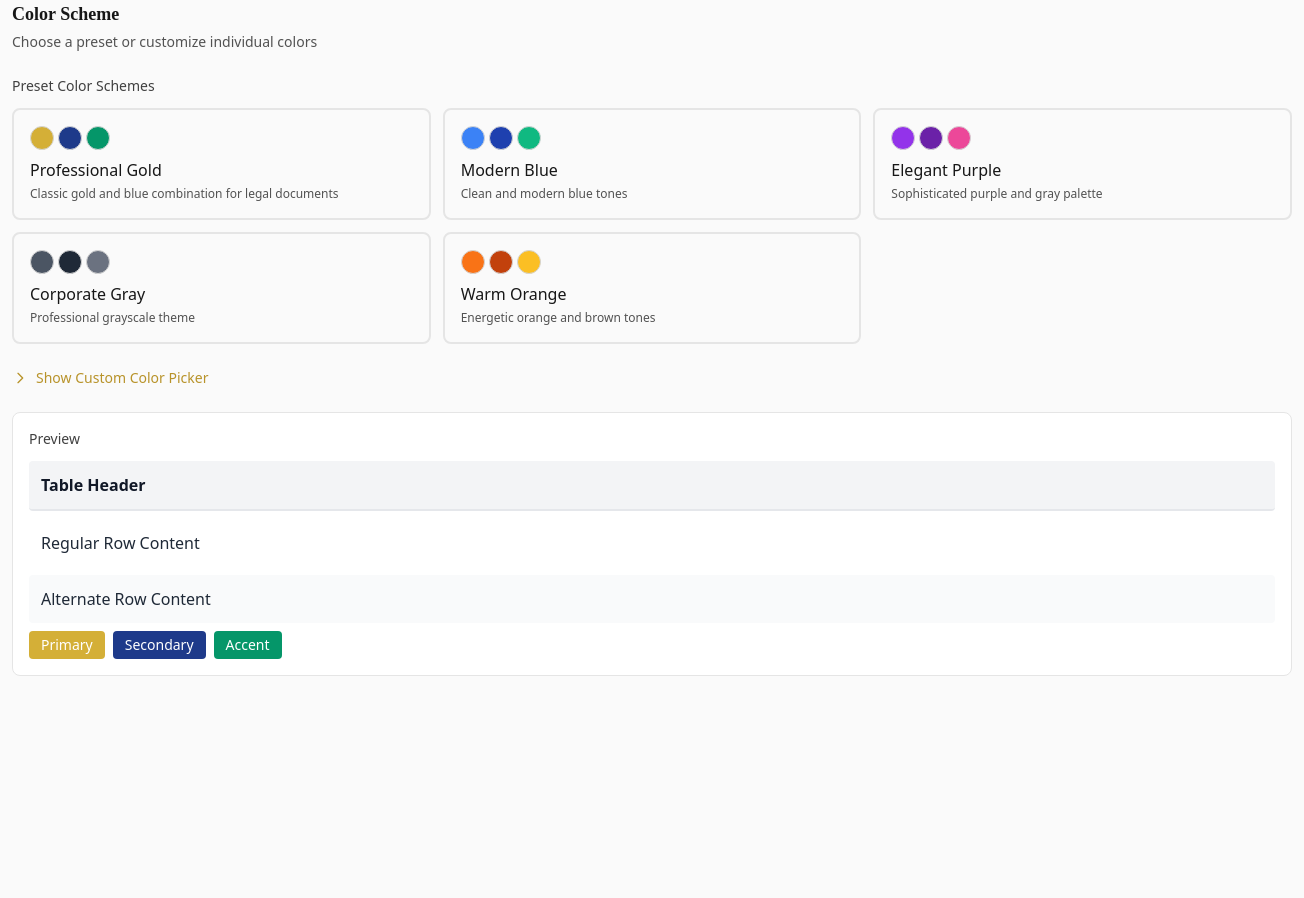
Scenario: ColorSchemeSelector › toggles custom color picker visibility
Click the button "Show Custom Color Picker" at x=110, y=378, box 12,368 -> 208,388
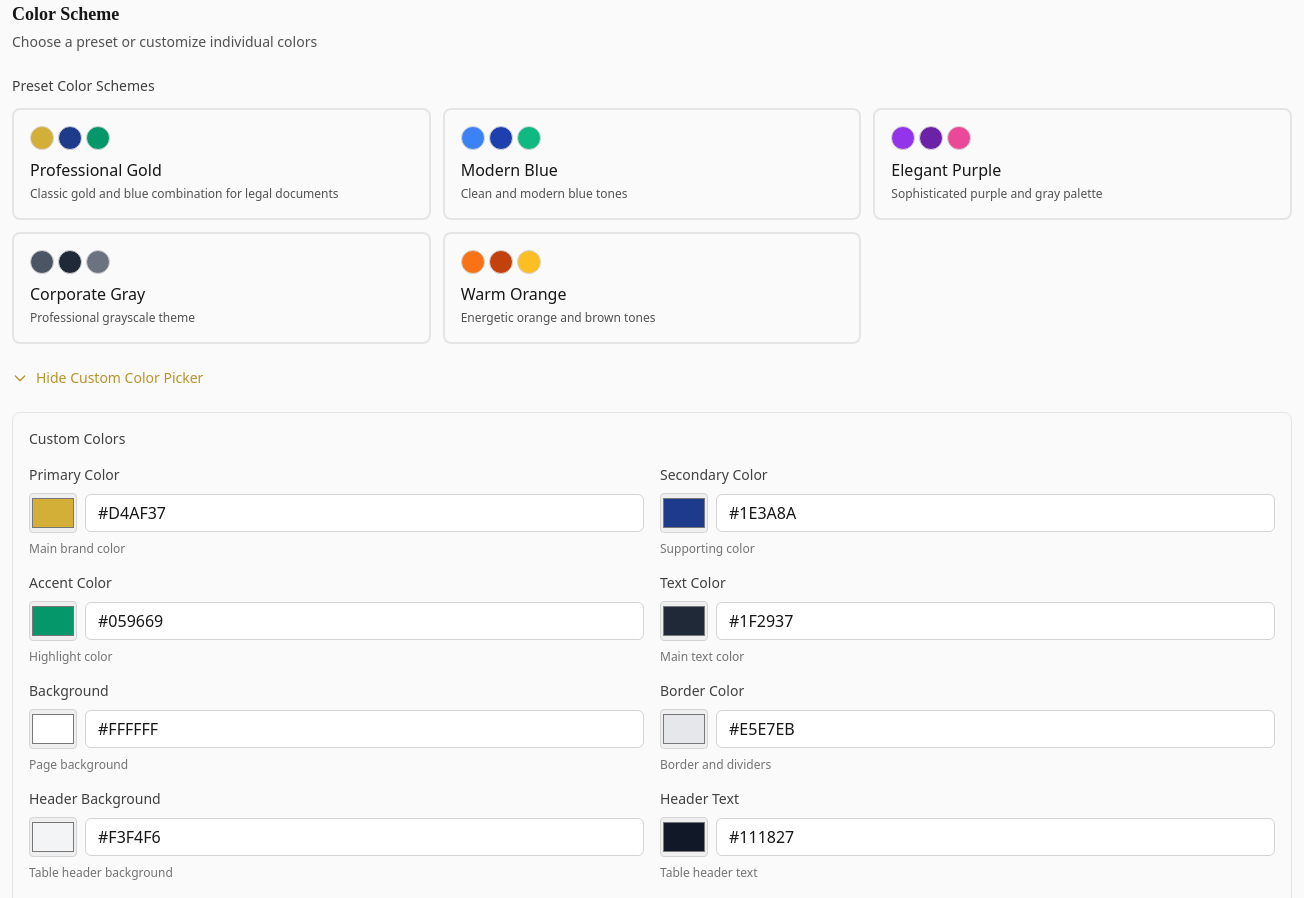
expect the text "Custom Colors" is shown: met, box 29,429 -> 125,448
